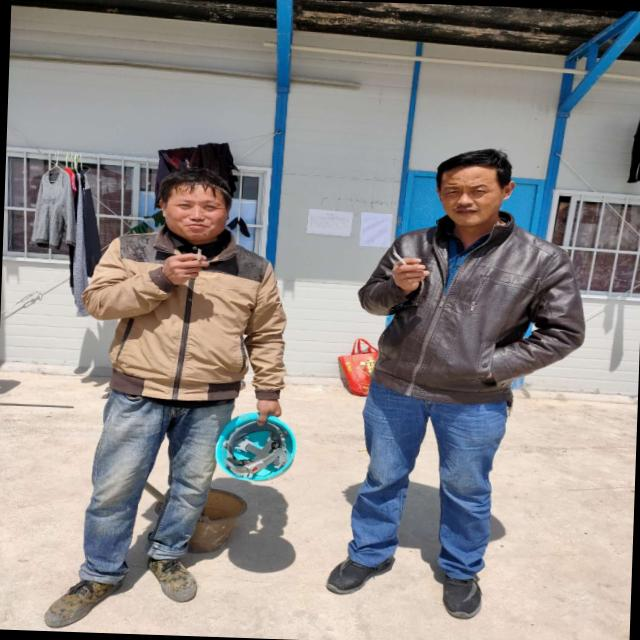cigarette: (390, 247, 408, 269), (190, 246, 204, 261)
